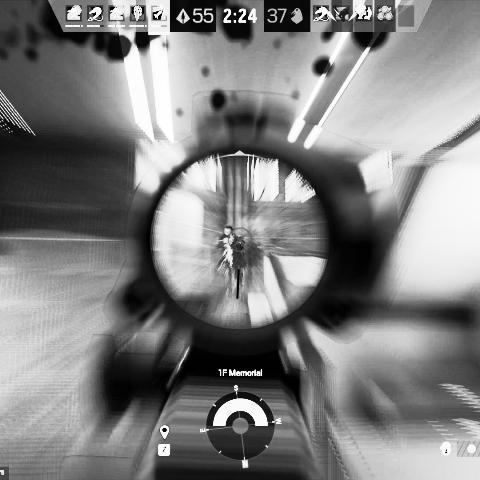Character: (212, 224, 253, 300)
Head: (223, 225, 233, 237)
